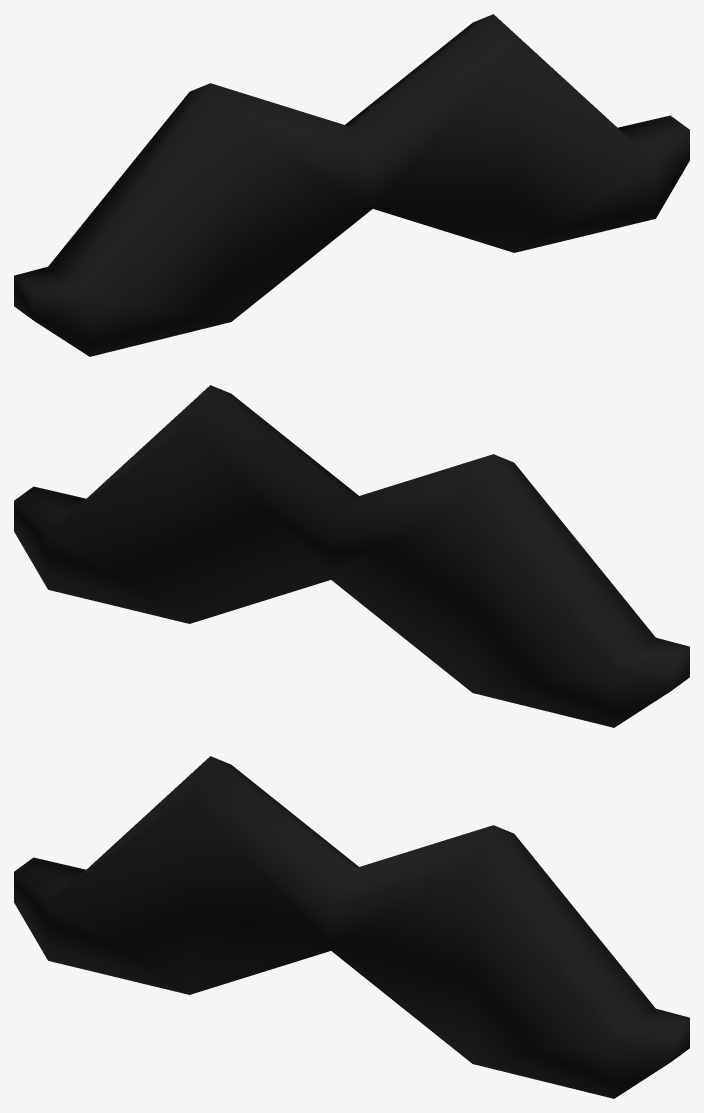
File: Moustache.gltf
3 views of the same model, one above another, from view 1: azimuth 30°, elevation 25°; view 2: azimuth 150°, elevation 25°; view 3: azimuth 330°, elevation 25° (orthographic).
Visible parts, largest first — view 1: MOUSTACHE; view 2: MOUSTACHE; view 3: MOUSTACHE.
Part boxes in pixels (x1=…): MOUSTACHE: x1=14, y1=14, x2=689, y2=356; MOUSTACHE: x1=14, y1=385, x2=689, y2=727; MOUSTACHE: x1=14, y1=756, x2=689, y2=1098.
Bounding box in the file's own units: 0.2241 × 0.0731 × 0.0246.
Materials: 1 (1 with a texture image).
